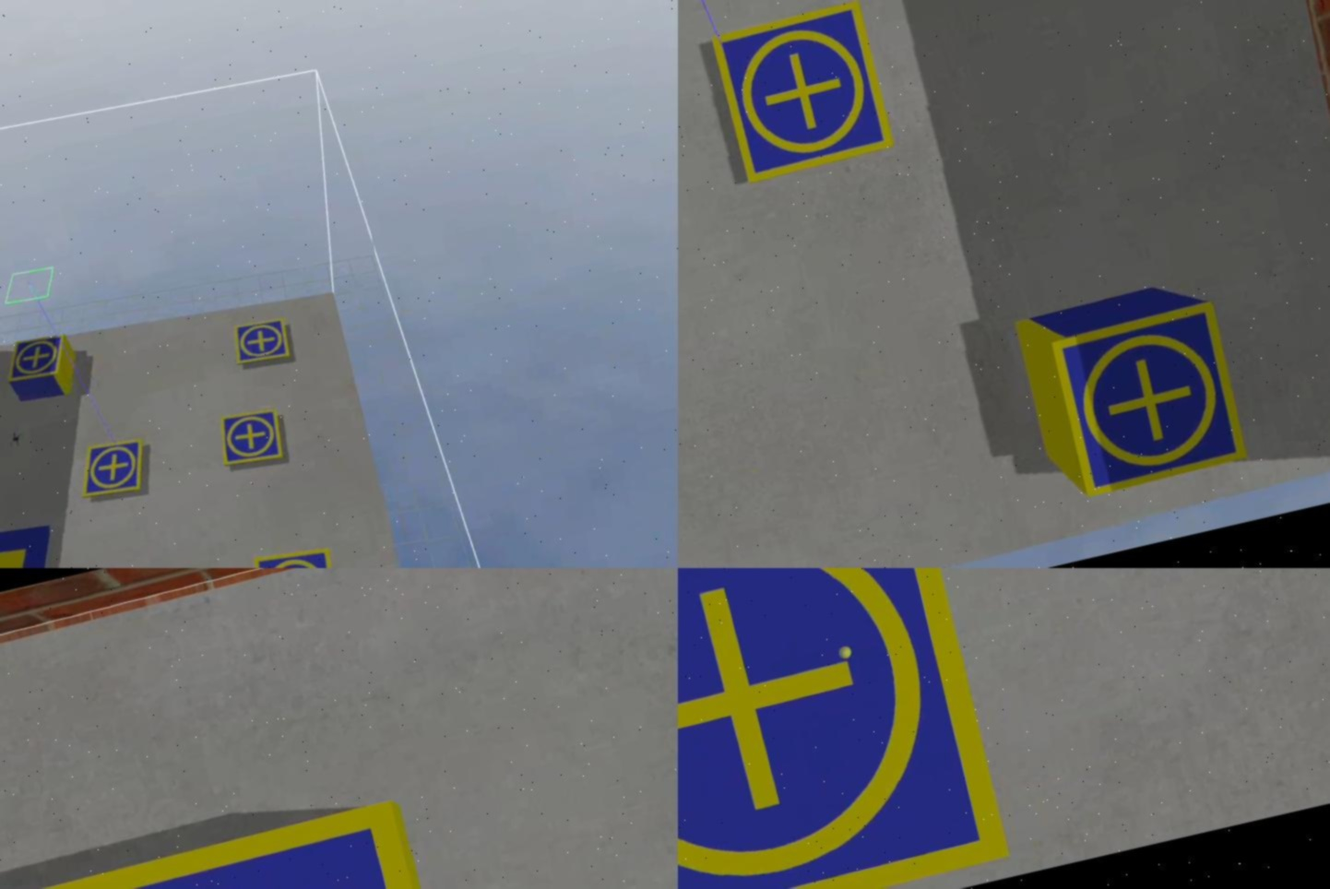small_base: (678, 568, 1009, 889), (1, 794, 498, 889), (1047, 297, 1253, 501), (709, 1, 900, 184), (73, 435, 153, 502), (215, 404, 289, 472), (1, 330, 72, 382), (229, 314, 294, 369), (250, 542, 340, 568)
